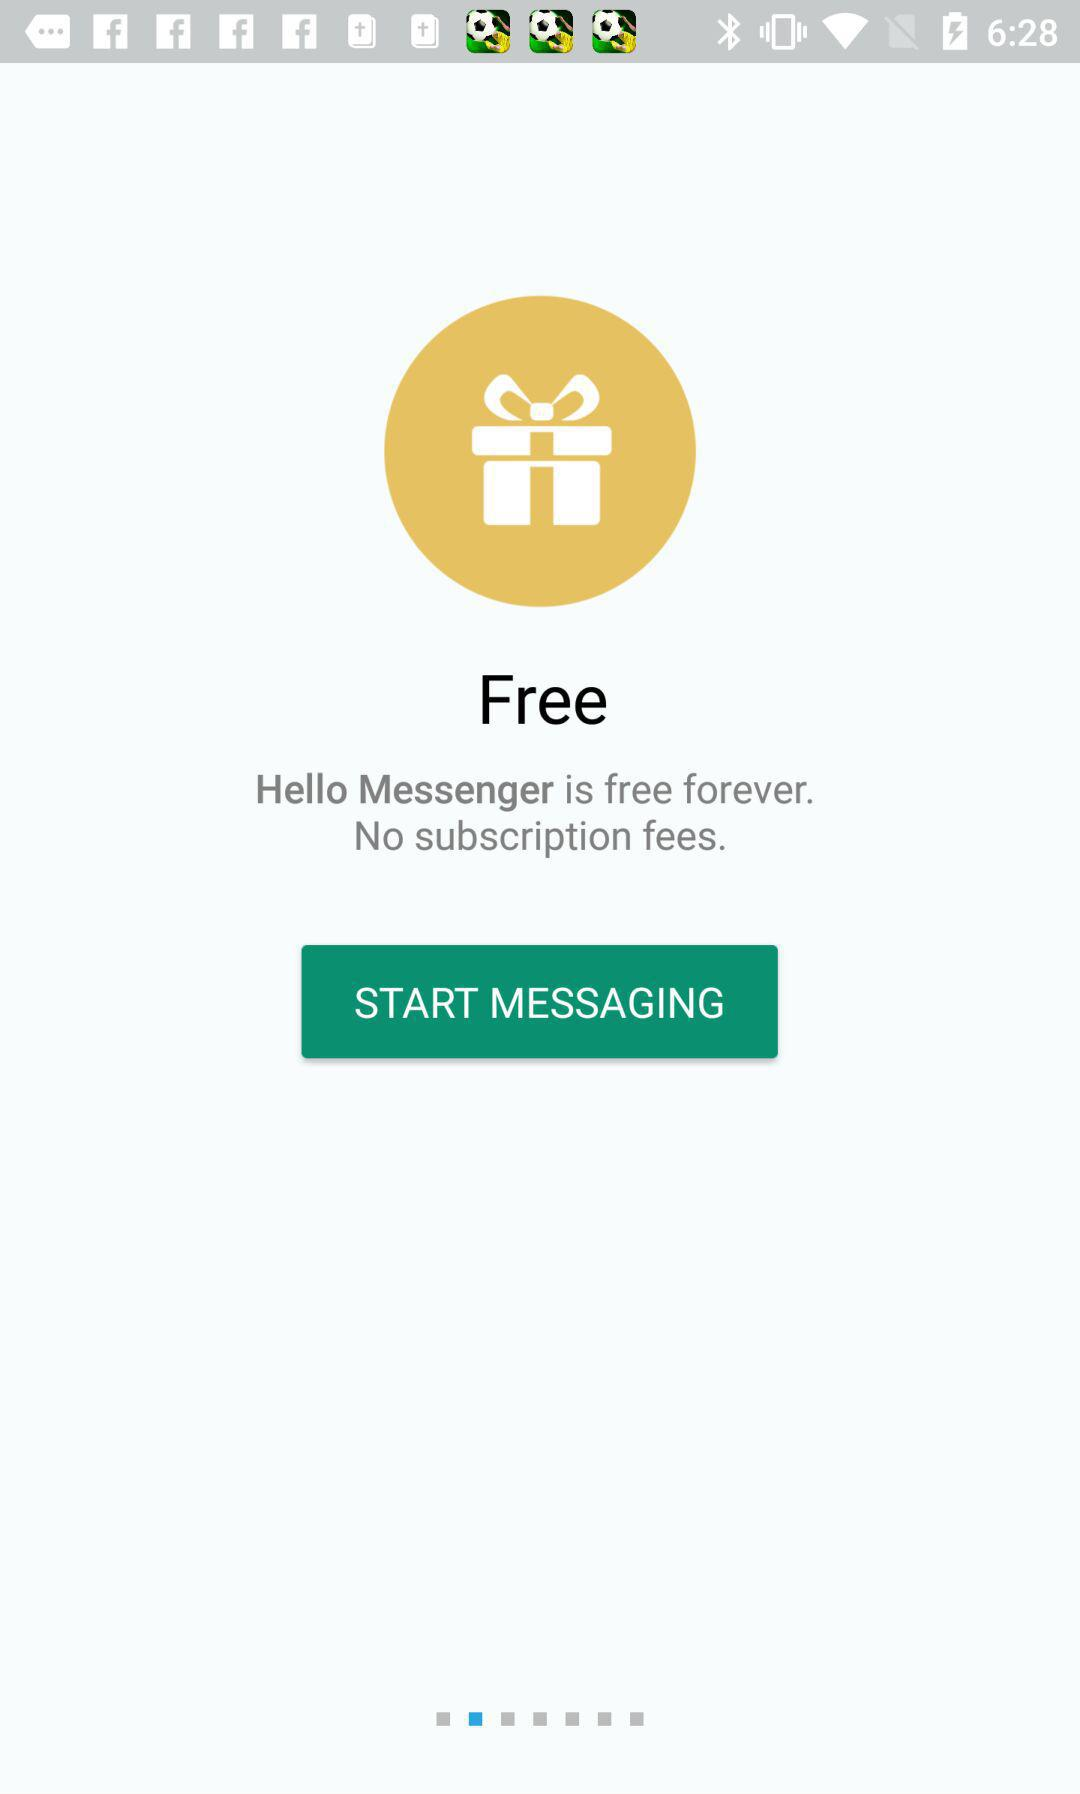Icon: (383, 295, 698, 609)
PageIndicator: (436, 1709, 644, 1727)
Text: (256, 771, 815, 860), (480, 674, 609, 727)
TextButton: (301, 944, 779, 1060)
UpperTaskBar: (1, 1, 1080, 64)
